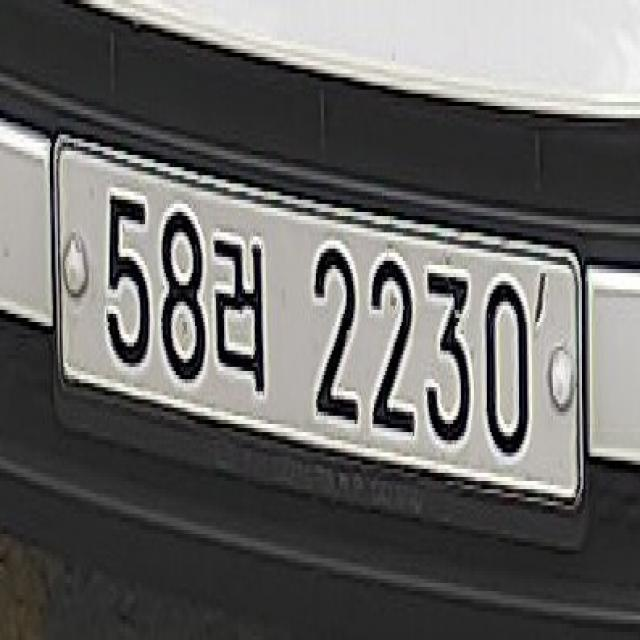0: (480, 262, 534, 462)
2: (311, 230, 362, 437), (368, 242, 418, 442)
3: (420, 250, 476, 448)
5: (100, 174, 150, 379)
8: (158, 192, 208, 396)
leo: (213, 212, 269, 410)
license_plate: (46, 121, 592, 563)
